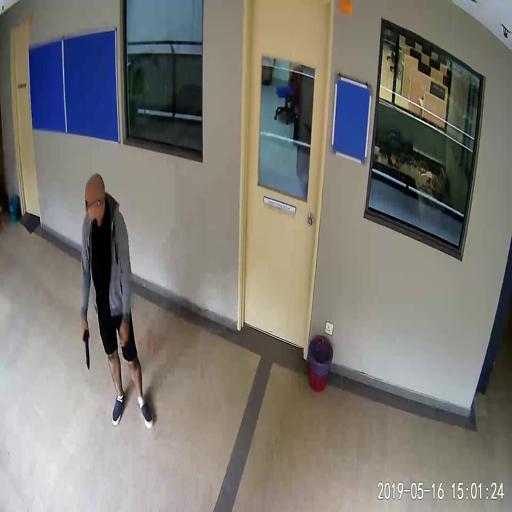pistol: (81, 325, 89, 367)
